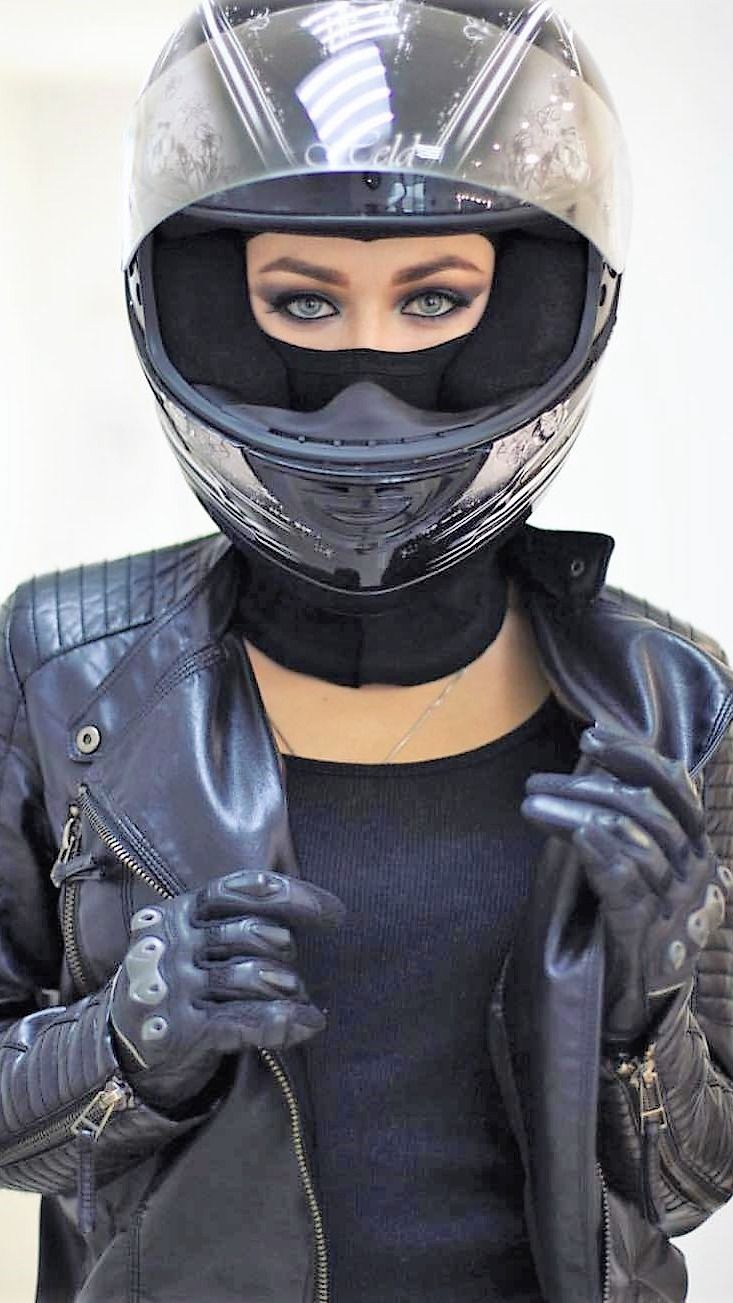with_helmet: (99, 1, 641, 637)
